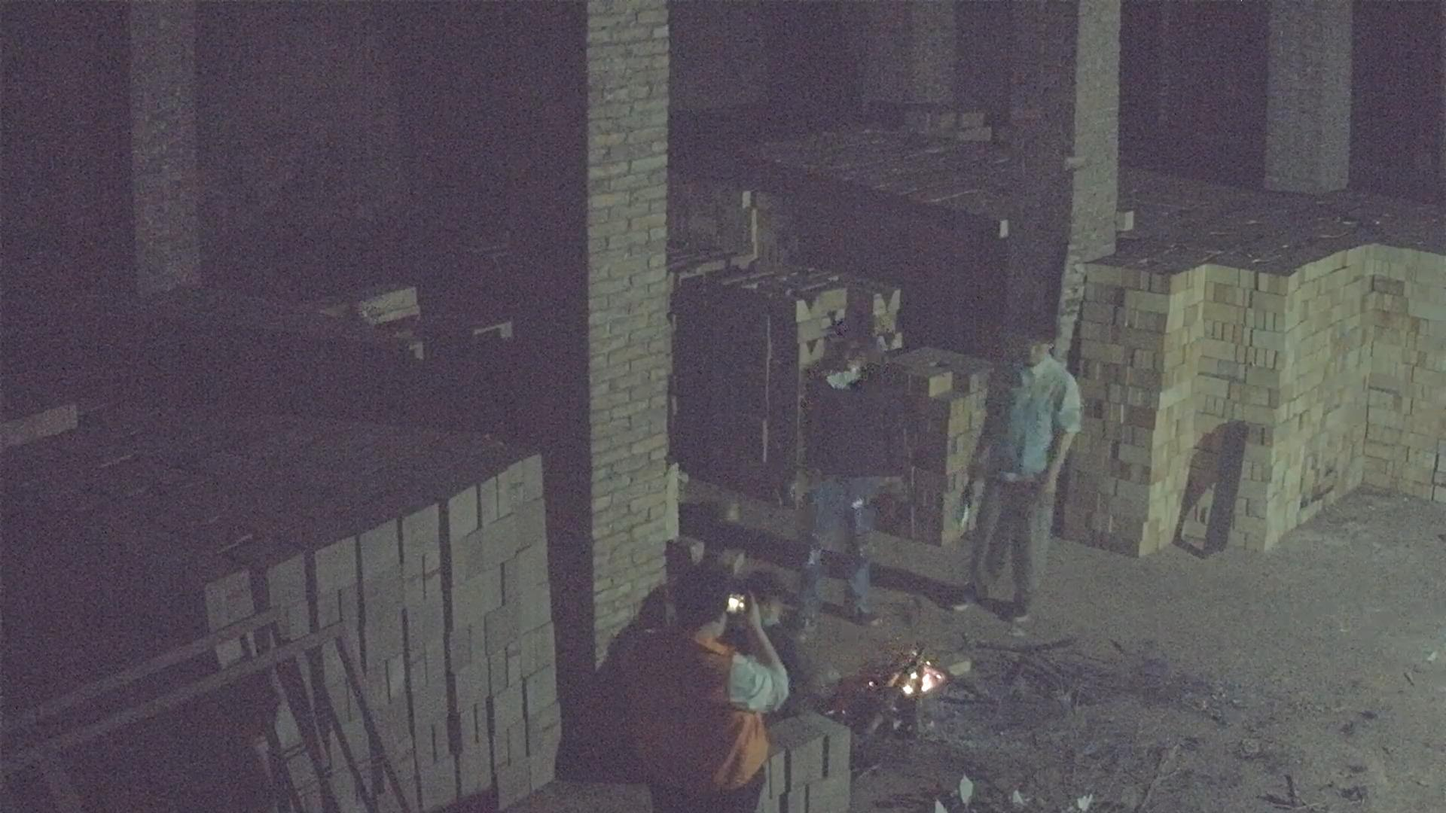fire: (906, 662, 947, 695)
